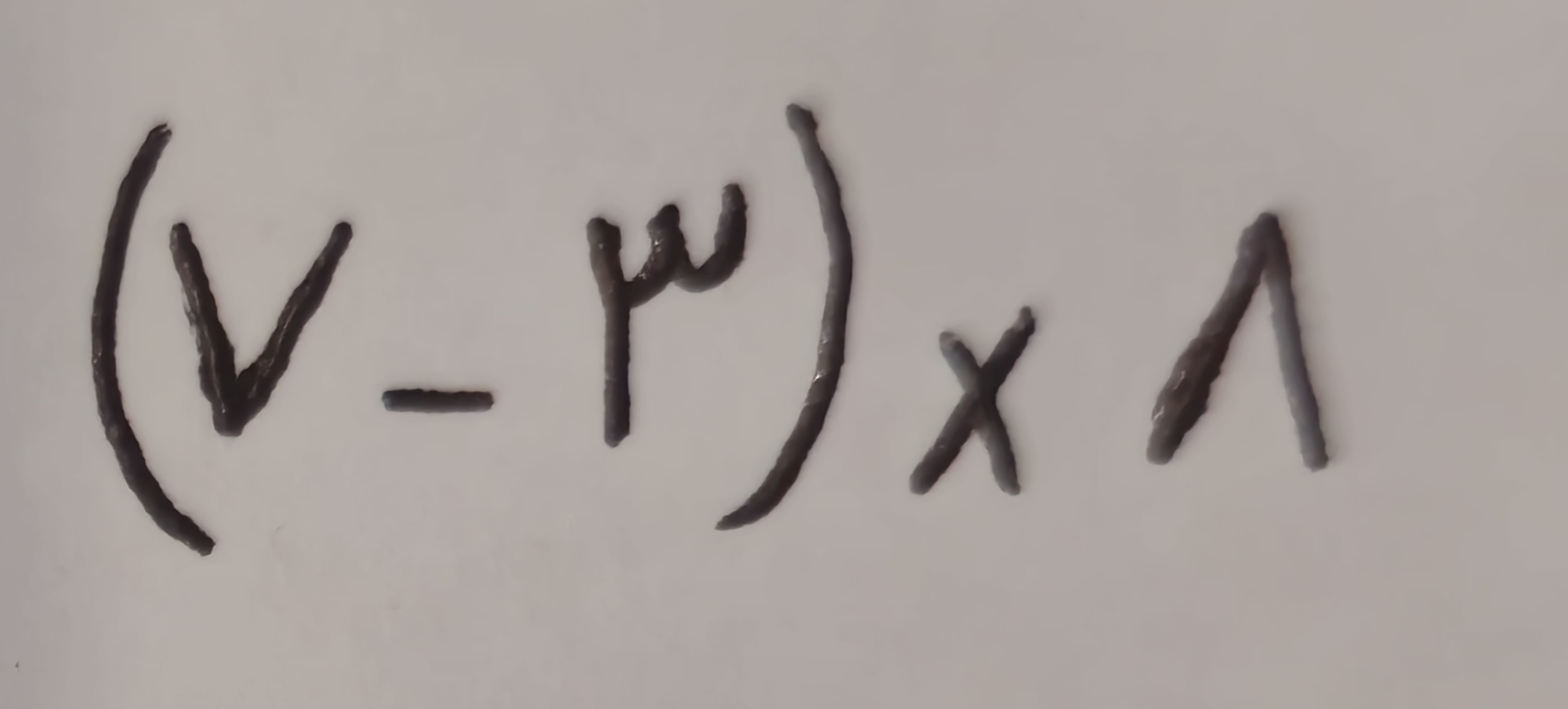character: (712, 104, 856, 534), (89, 122, 216, 559), (1139, 211, 1332, 473), (583, 179, 750, 448), (164, 219, 355, 440), (908, 305, 1037, 499), (379, 386, 499, 420)
